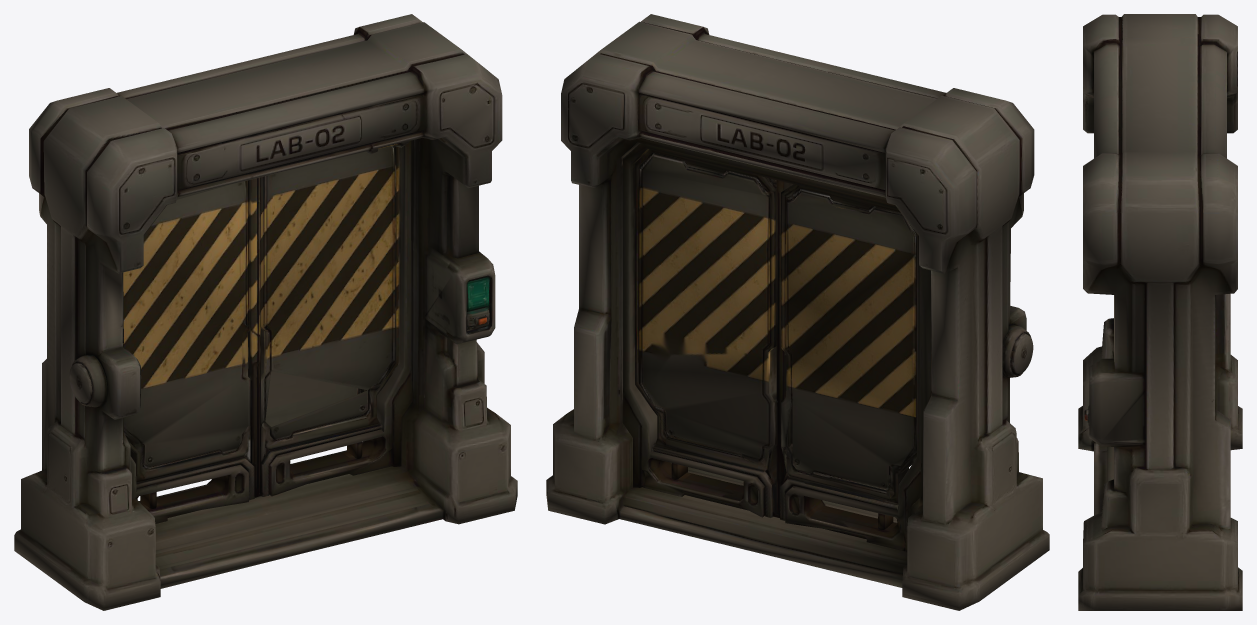
The model's file is selected.glb.
3 views of the same model, side by side, from view 1: azimuth 30°, elevation 25°; view 2: azimuth 150°, elevation 25°; view 3: azimuth 270°, elevation 25° (orthographic). The views are drawn at different scales.
Parts seen in each view (by area): view 1: tripo_node_64db7d66-c6be-4859-a581-51eb816364ba; view 2: tripo_node_64db7d66-c6be-4859-a581-51eb816364ba; view 3: tripo_node_64db7d66-c6be-4859-a581-51eb816364ba.
Boxes of the visible parts, x1=… form: tripo_node_64db7d66-c6be-4859-a581-51eb816364ba: x1=14, y1=14, x2=517, y2=610; tripo_node_64db7d66-c6be-4859-a581-51eb816364ba: x1=546, y1=14, x2=1049, y2=610; tripo_node_64db7d66-c6be-4859-a581-51eb816364ba: x1=1078, y1=14, x2=1242, y2=610.
Bounding box in the file's own units: 0.998 × 0.9902 × 0.3496.
1 material, 1 textured.
